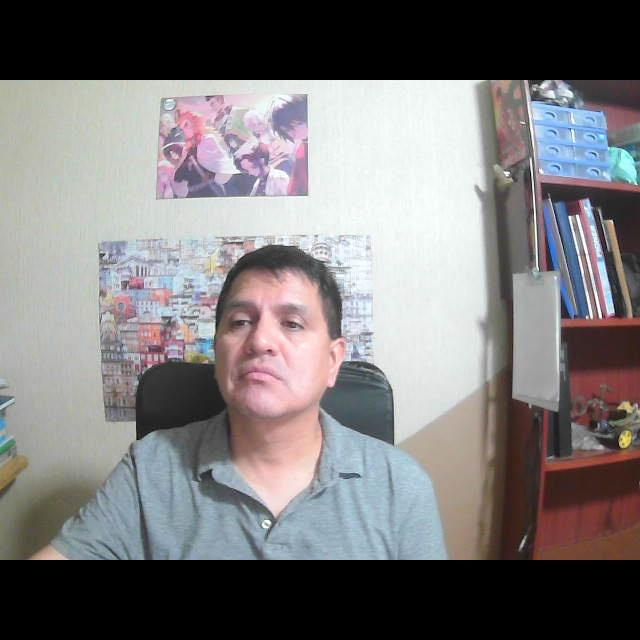cesar: (197, 230, 359, 454)
